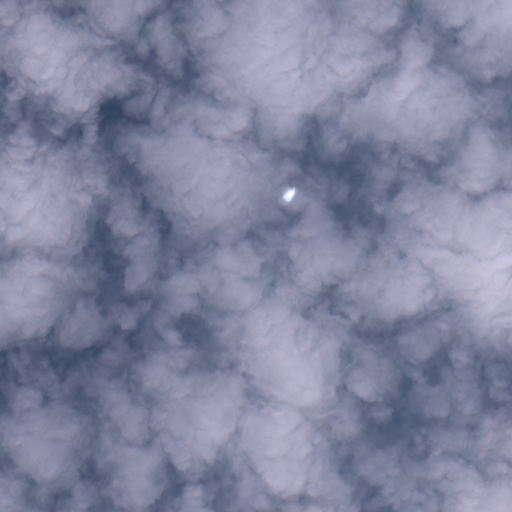Iceberg: (283, 187, 294, 201)
